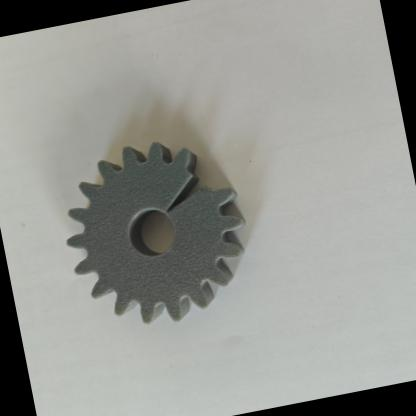defect: (136, 127, 262, 248)
gear: (42, 114, 287, 352)
